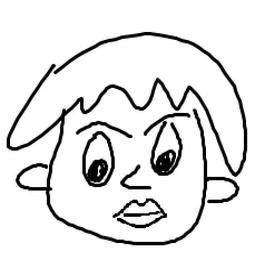cupid_mouth: (113, 197, 170, 229)
ear: (198, 175, 247, 210)
eye: (149, 118, 185, 182), (80, 130, 115, 191)
frowning_eyebrow: (138, 110, 192, 136), (75, 119, 133, 140)
nose: (118, 162, 157, 192)
